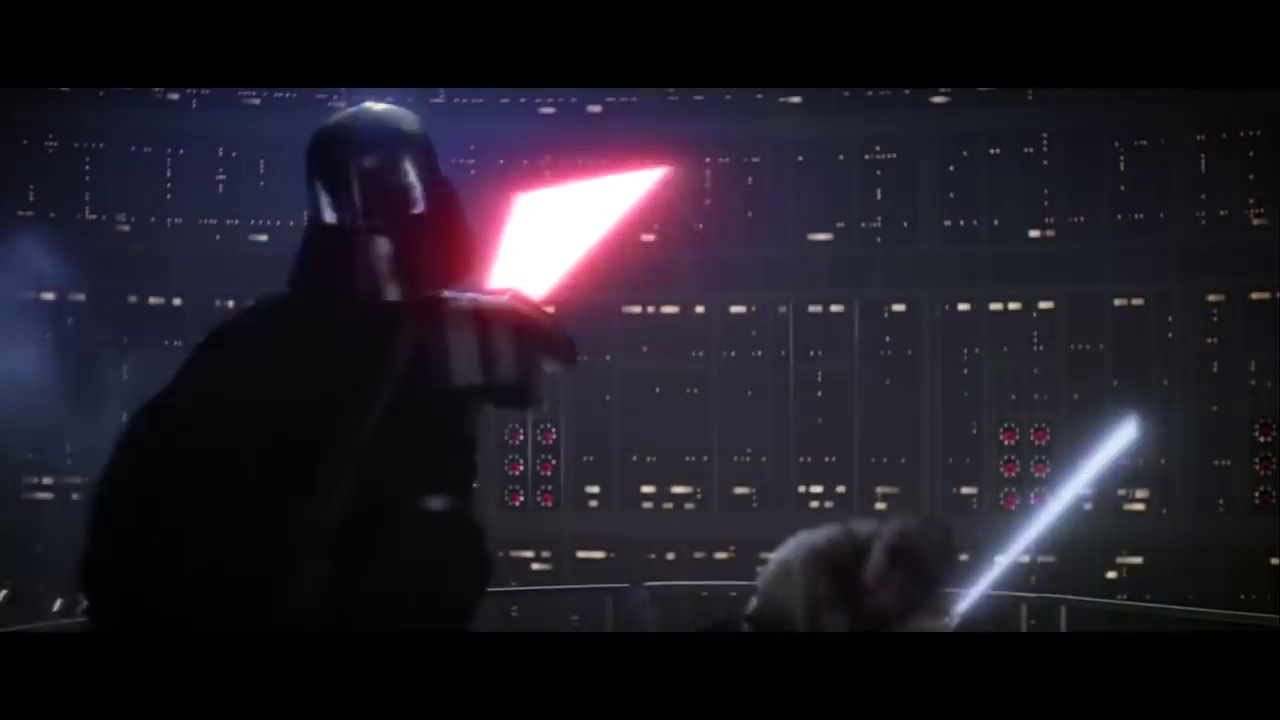lightsaber: (943, 411, 1144, 631)
